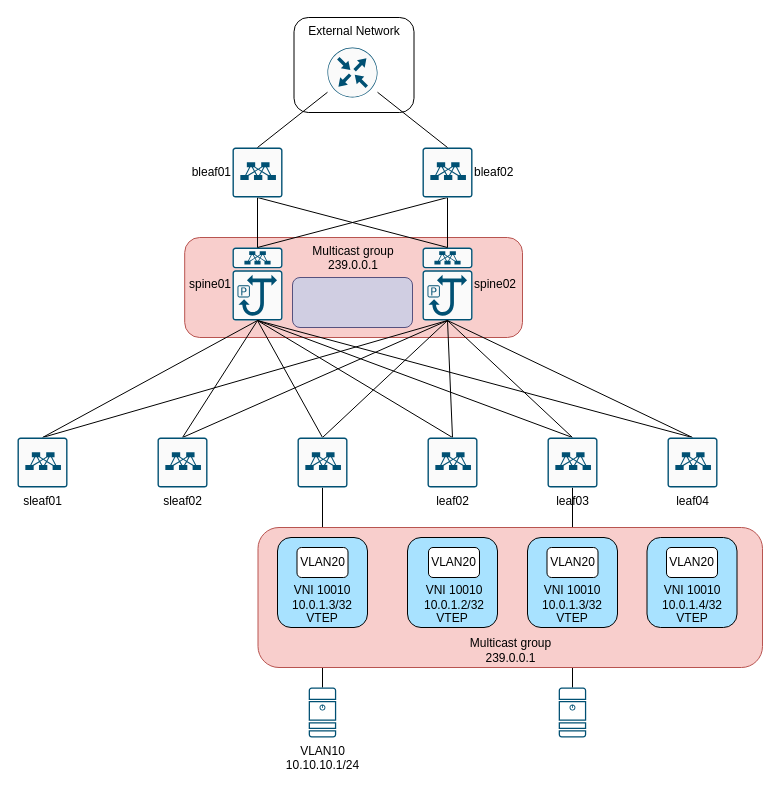
The diagram is 780 pixels wide and 791 high, and some of its shapes have lost their labels. The centre of each missing label's shape, as x and y in pixels:
"Anycast RP 10.0.0.254/32" belongs at [352,302].
"leaf01" belongs at [322,462].
"VLAN20 10.10.20.1/24" belongs at [572,712].
